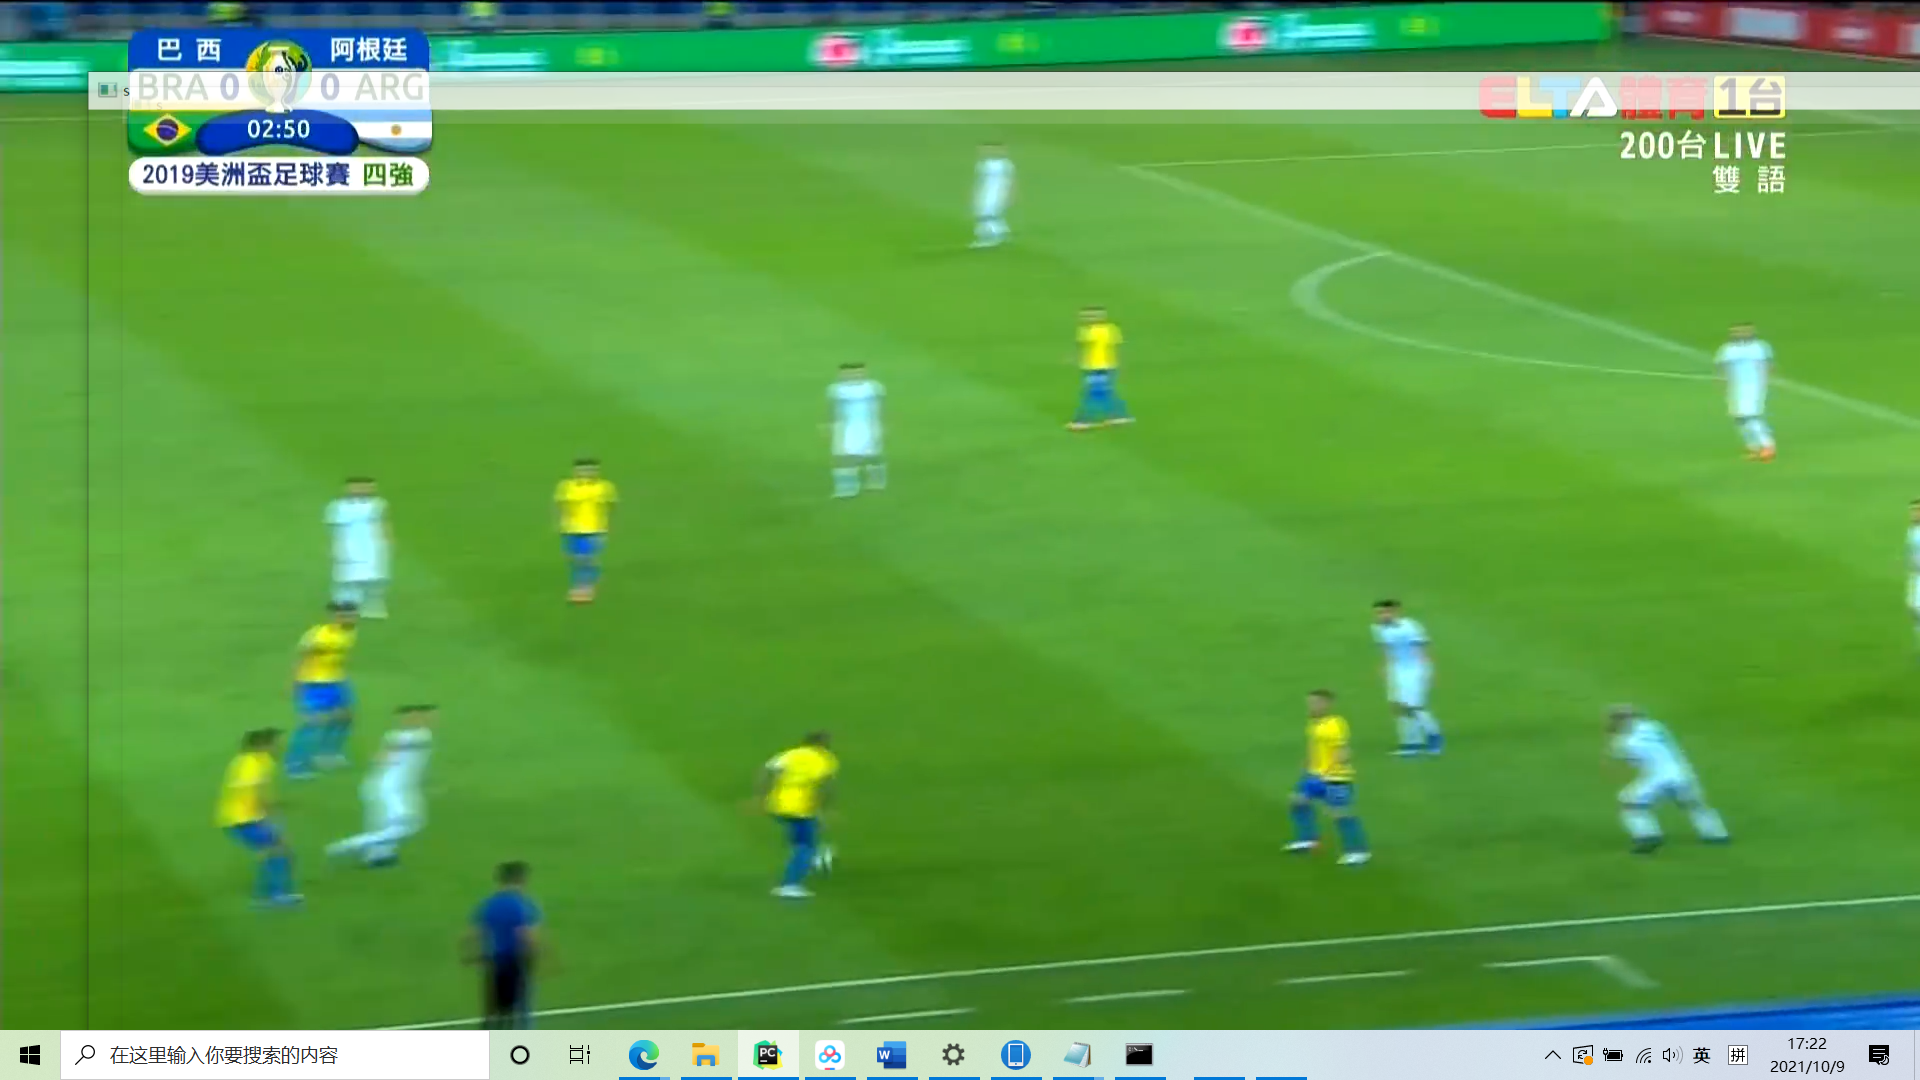ft: (812, 847, 843, 876)
